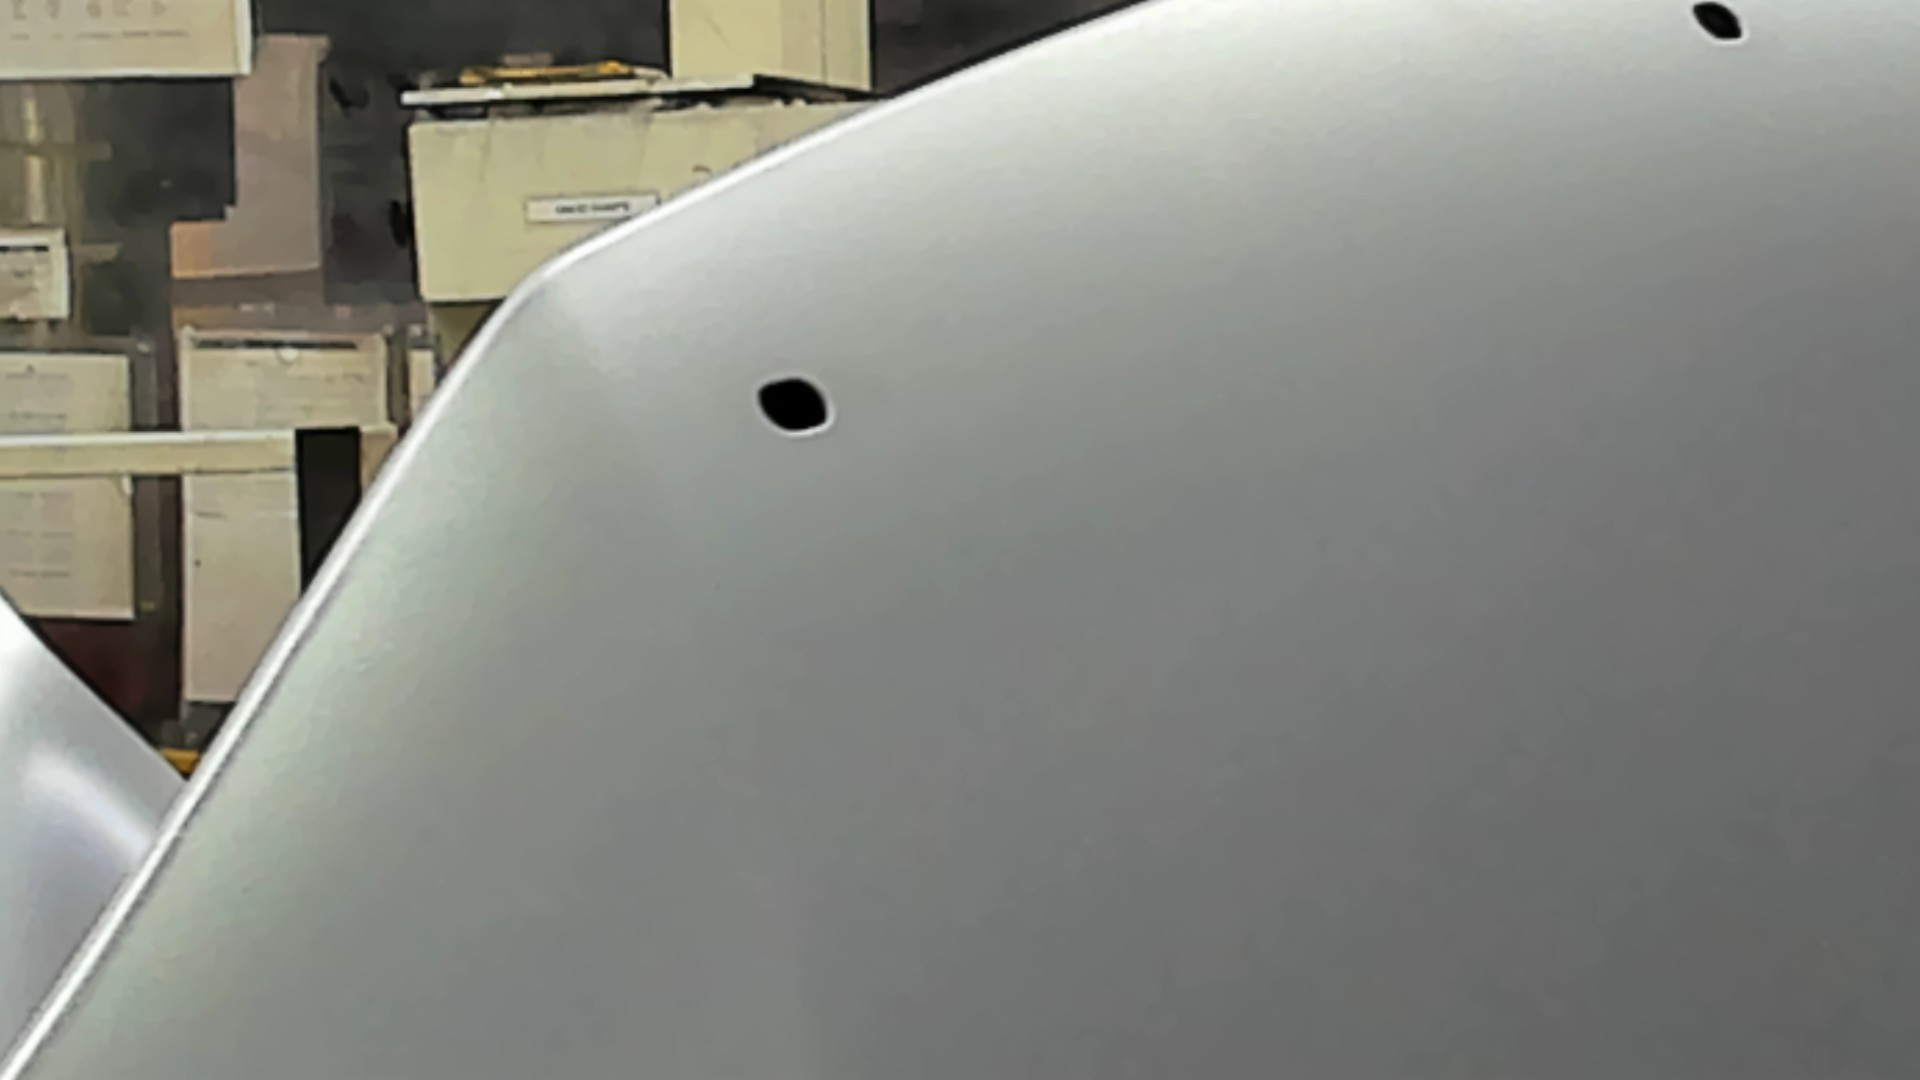amorfo: (752, 373, 833, 436), (1687, 1, 1751, 46)
capo: (895, 129, 1920, 1080)
